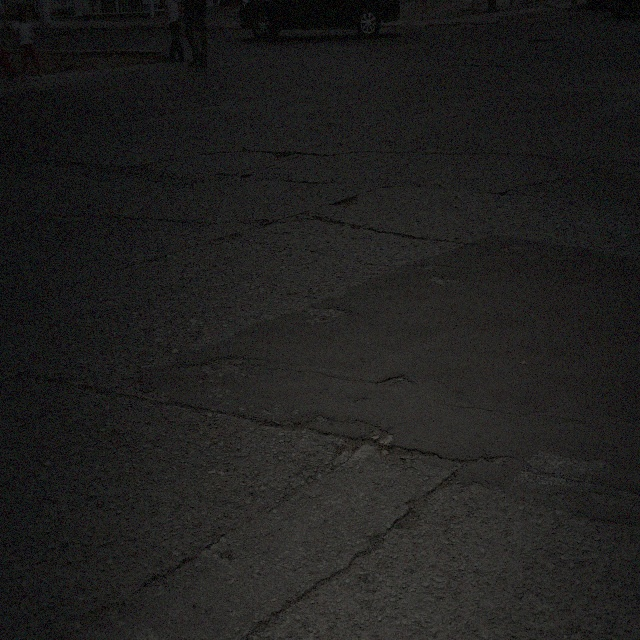pothole: (381, 438, 430, 474), (391, 494, 424, 532), (343, 430, 368, 460), (332, 192, 359, 210), (368, 531, 386, 553), (275, 148, 296, 160)
